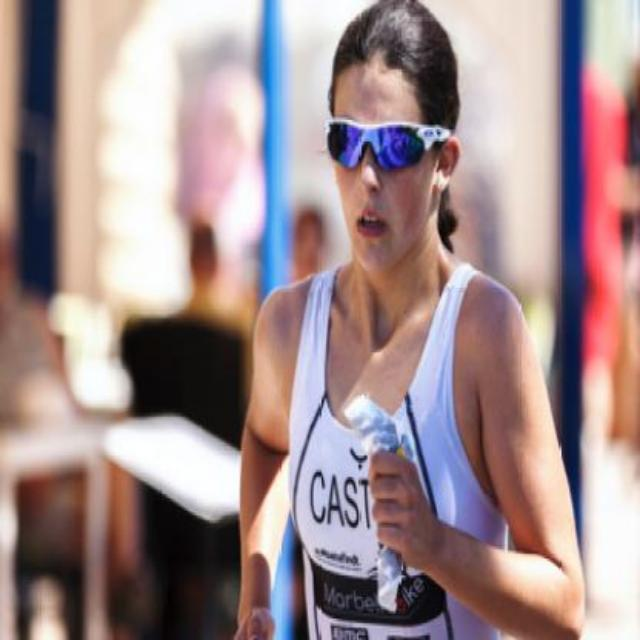sunglasses: (325, 118, 449, 170)
